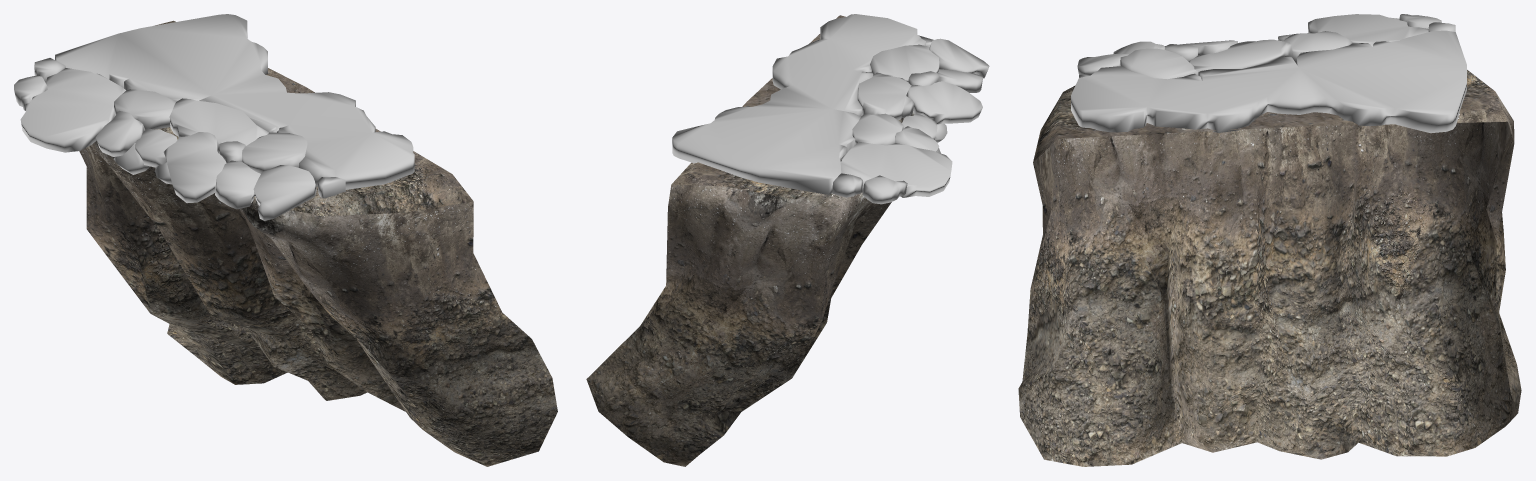
The model's file is Road_end2.fbx.
3 renders of one model, left to right at view 1: azimuth 30°, elevation 25°; view 2: azimuth 150°, elevation 25°; view 3: azimuth 270°, elevation 25°, orthographic. The views are drawn at different scales.
Visible parts, largest first — view 1: polySurface217; view 2: polySurface217; view 3: polySurface217.
Boxes of the visible parts, bbox=[...] form: polySurface217: bbox=[14, 14, 557, 466]; polySurface217: bbox=[586, 14, 989, 466]; polySurface217: bbox=[1018, 14, 1521, 466].
Size of the model in its own units: 5.3 by 5.2 by 6.68.
